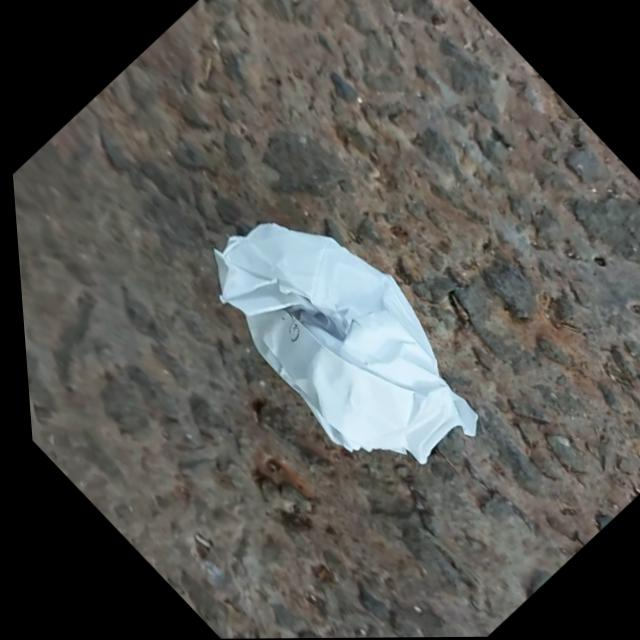paper: (215, 223, 477, 462)
